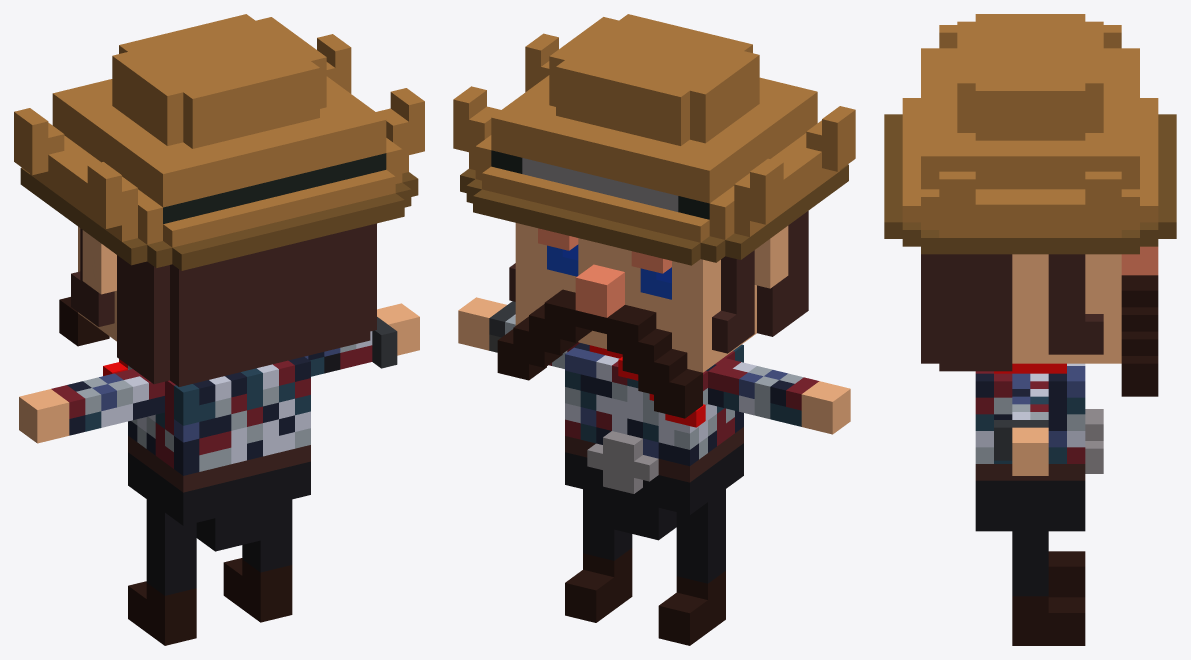
The model's file is farmer4.fbx.
3 renders of one model, left to right at view 1: azimuth 30°, elevation 25°; view 2: azimuth 150°, elevation 25°; view 3: azimuth 270°, elevation 25°, orthographic. The views are drawn at different scales.
Visible parts, largest first — view 1: ObjObject.006; view 2: ObjObject.006; view 3: ObjObject.006.
Part boxes in pixels (box(x1,y1,x2,y2)): ObjObject.006: box(14, 14, 424, 645); ObjObject.006: box(453, 14, 855, 645); ObjObject.006: box(884, 14, 1176, 645).
Bounding box in the file's own units: 67.2 × 95.2 × 44.8.
1 material, 1 textured.
